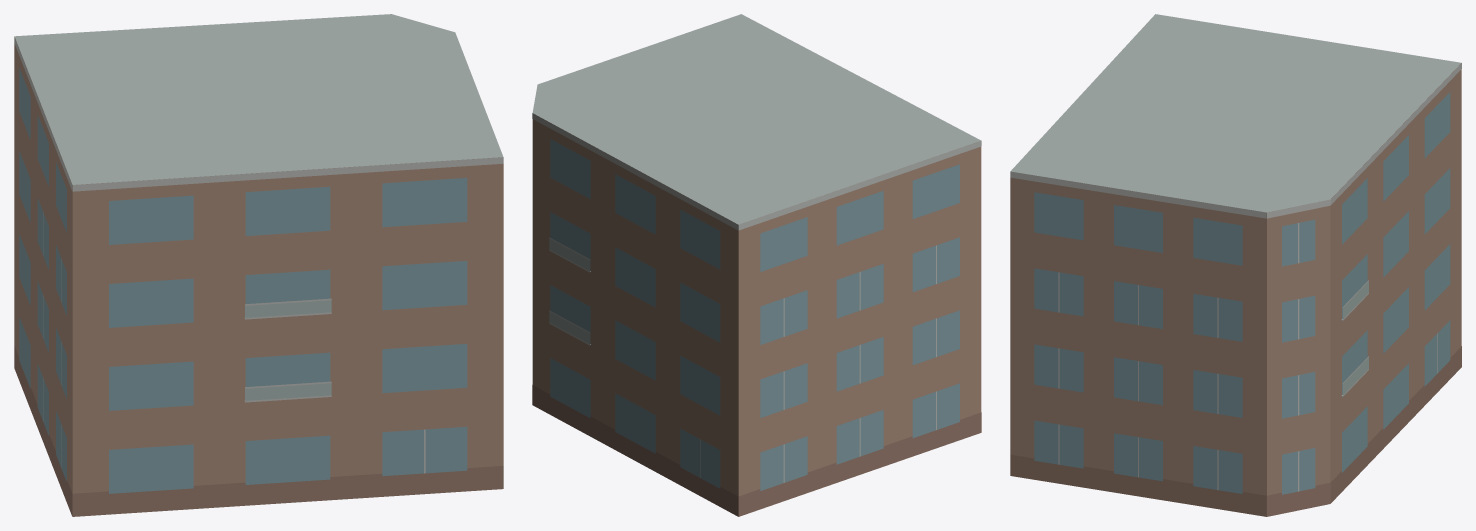
Rendered from survey-upis-32868974.glb.
The picture shows the model from 3 angles, left to right: view 1: azimuth 30°, elevation 25°; view 2: azimuth 150°, elevation 25°; view 3: azimuth 270°, elevation 25°; orthographic projection. The views are drawn at different scales.
Visible parts, largest first — view 1: survey-upis-32868974.tmp; view 2: survey-upis-32868974.tmp; view 3: survey-upis-32868974.tmp.
Boxes of the visible parts, x1,y1,x2,y2 form: survey-upis-32868974.tmp: (14, 14, 503, 516); survey-upis-32868974.tmp: (532, 14, 981, 516); survey-upis-32868974.tmp: (1010, 14, 1461, 516).
Bounding box in the file's own units: 17.08 × 12.2 × 16.41.
